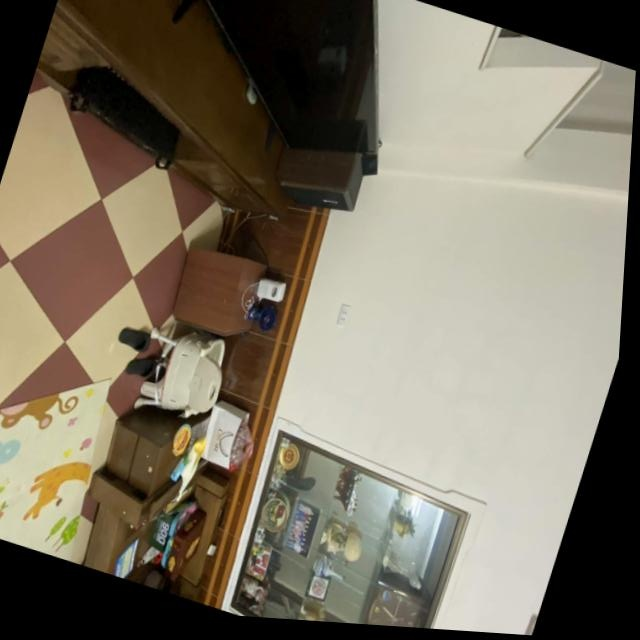outlet: (336, 302, 352, 327)
